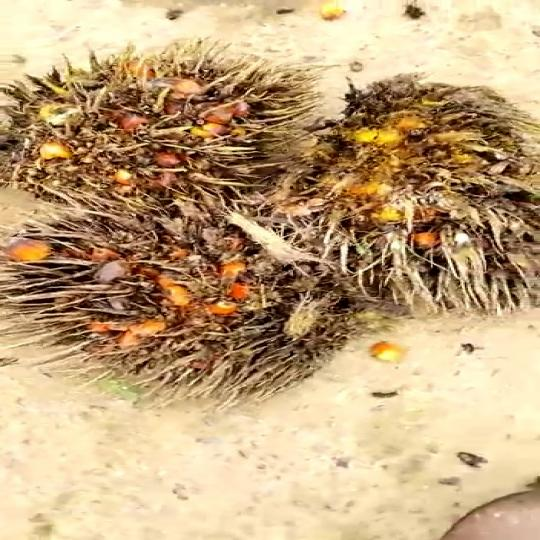terlalu masak: (285, 76, 540, 330), (0, 206, 373, 379), (0, 63, 326, 207)
